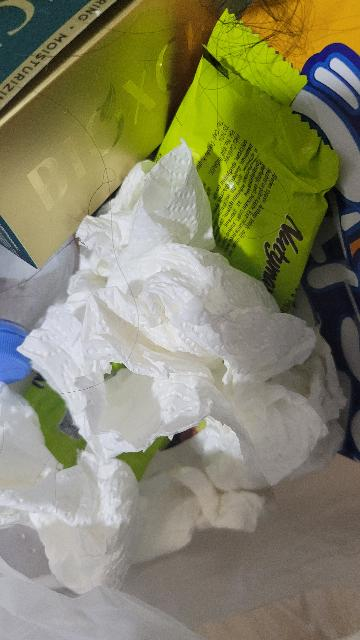Kagit: (18, 176, 323, 487)
Plastik: (154, 16, 339, 337), (0, 410, 259, 591)
